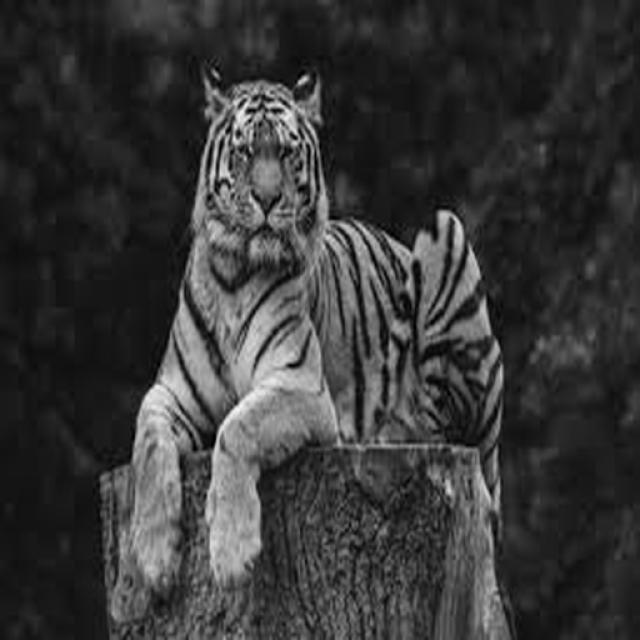Tiger: (121, 56, 509, 594)
